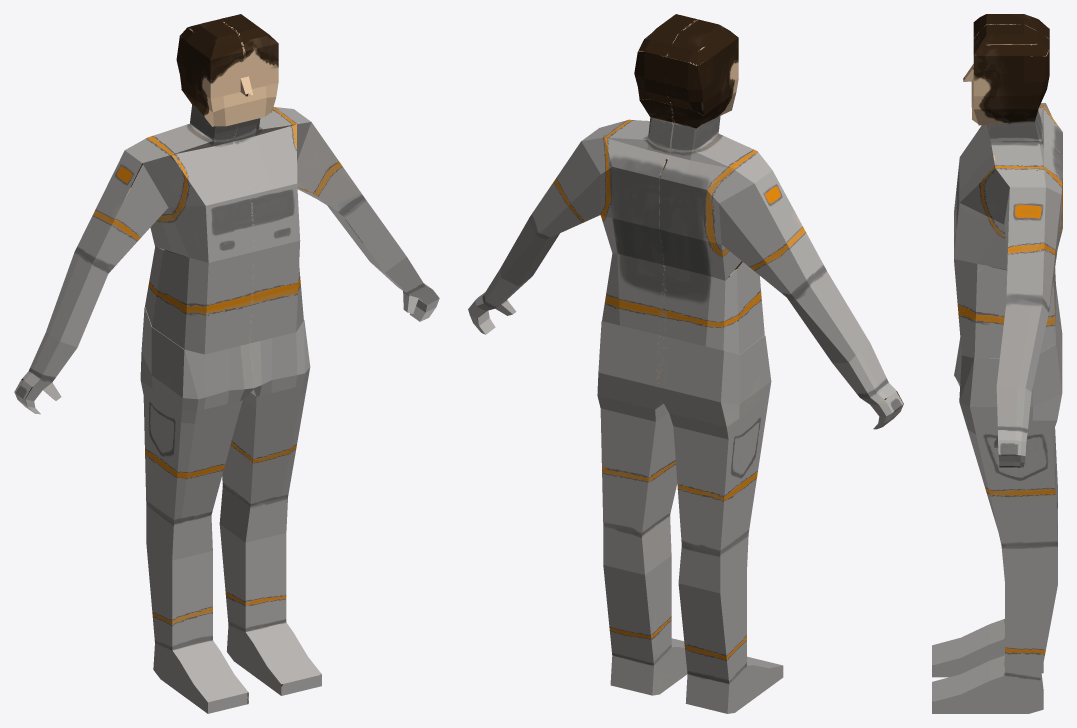
File: zhigga_astronaut.gltf
3 views of the same model, side by side, from view 1: azimuth 30°, elevation 25°; view 2: azimuth 150°, elevation 25°; view 3: azimuth 270°, elevation 25° (orthographic). The views are drawn at different scales.
Visible parts, largest first — view 1: Zhigga_standing; view 2: Zhigga_standing; view 3: Zhigga_standing.
Boxes of the visible parts, x1,y1,x2,y2 form: Zhigga_standing: [14, 14, 439, 713]; Zhigga_standing: [468, 14, 903, 713]; Zhigga_standing: [932, 14, 1062, 713].
Size of the model in its own units: 25.68 by 38.37 by 6.87.
Materials: 1 (1 with a texture image).
